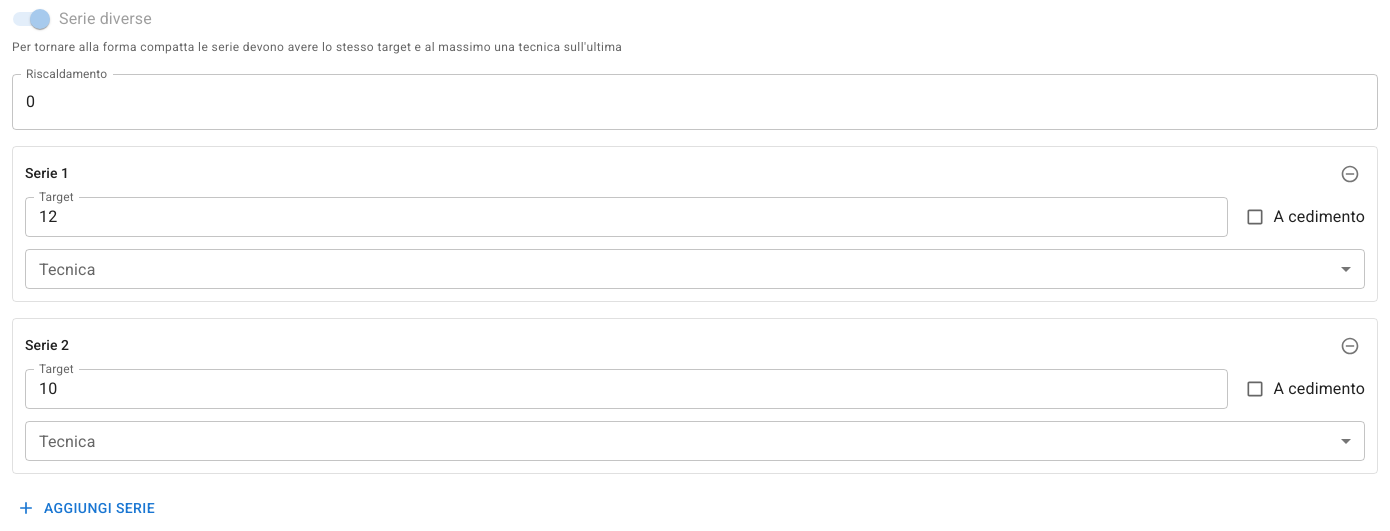
Test: PlannedSetsEditor · serie diverse › si toglie una serie; con una sola allenante il pulsante è disabilitato
What coordinates should you click on to do the following:
click the button named "Togli la serie" in the row of "Serie 1"
I would click on:
 (1350, 174)
Its box is [1335,159,1365,189].
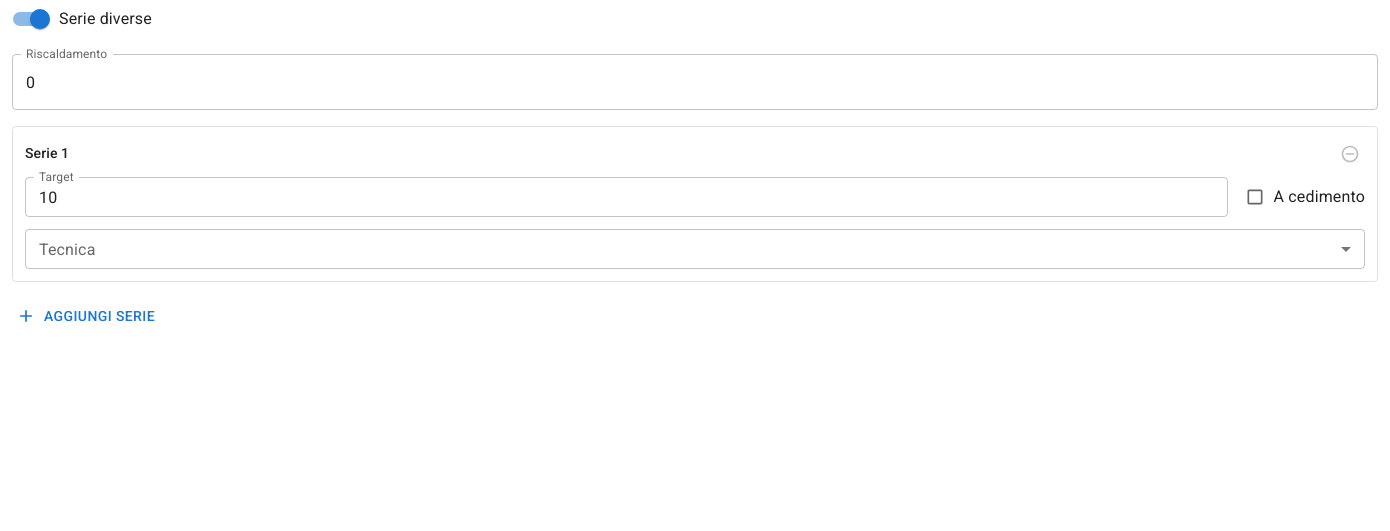
Expected: the button named "Togli la serie" is disabled, [1335,139,1365,169]
